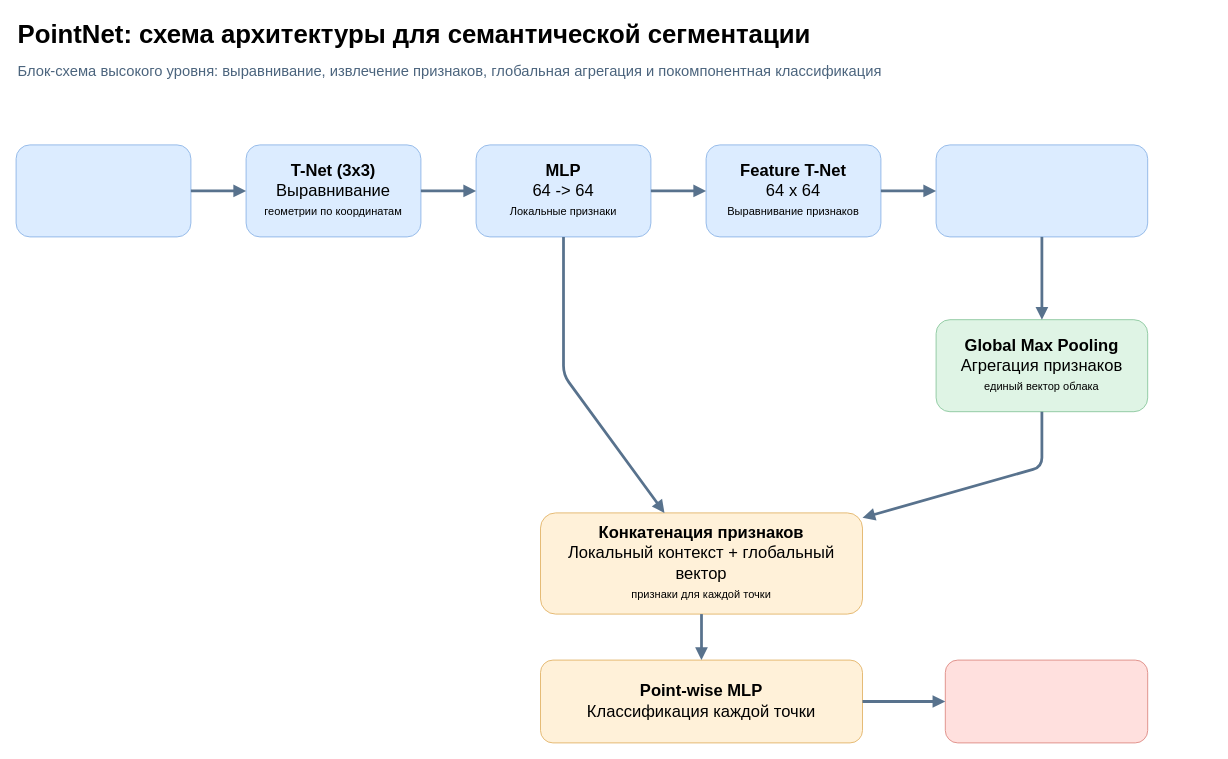
This 1228x759 diagram has some shape labels left out. The box of each missing label's shape, as (x1, y1, x2, y2) in pixels:
MLP 64 -> 128 -> 1024 Глобальный дескриптор: (935, 144, 1148, 237)
Входное облако точек N x F признаков XYZ, RGB, Intensity, Returns: (15, 144, 191, 237)
Выход N x C класс для каждой точки: (944, 659, 1148, 743)
